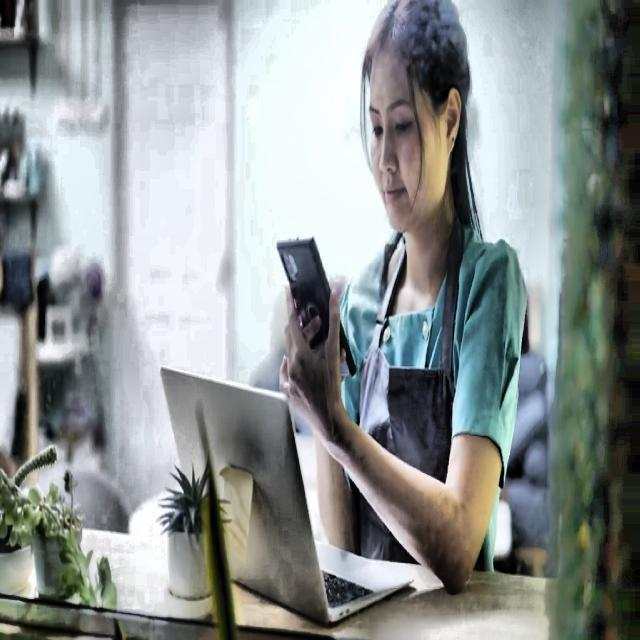Phone: (276, 233, 358, 384)
